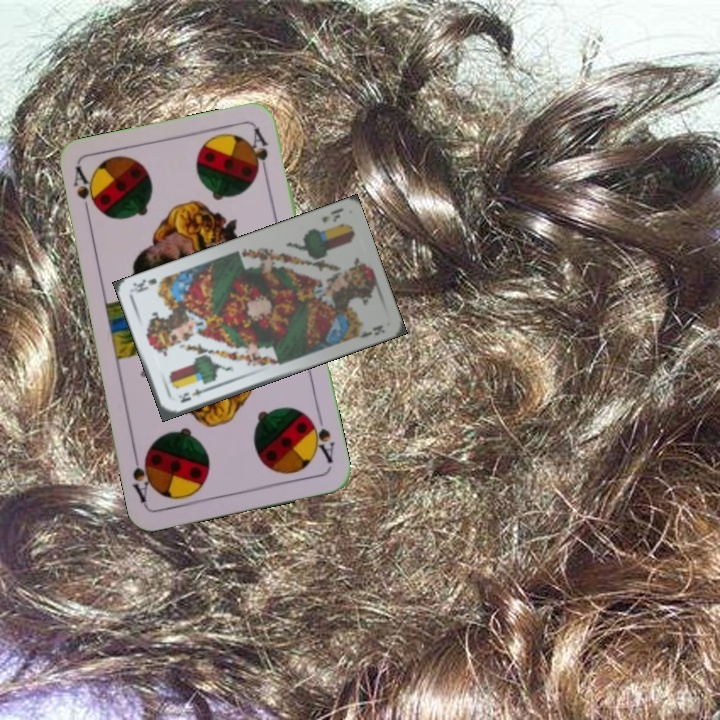EK: (175, 384, 210, 405), (317, 204, 346, 225)
SA: (304, 412, 337, 466), (69, 163, 98, 222)
